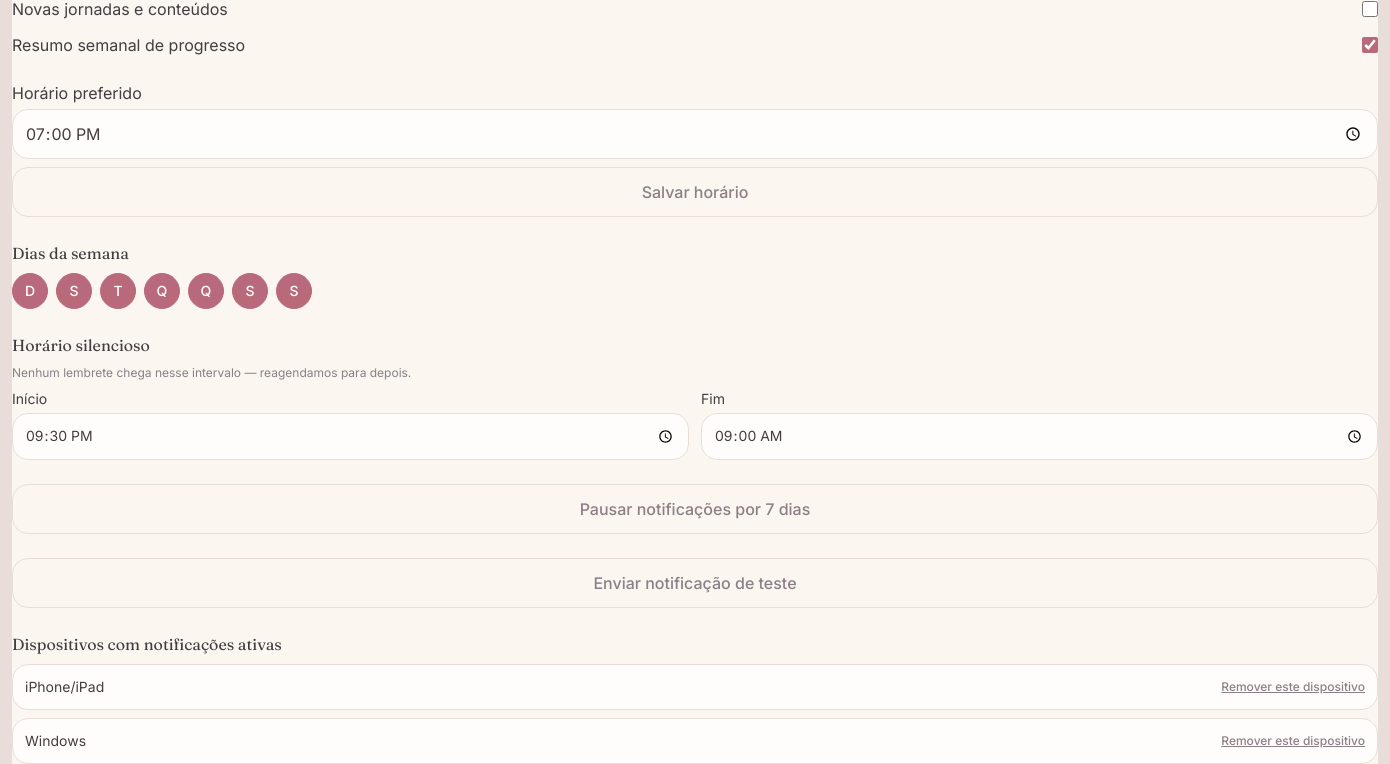
it: NotificacoesForm › lista múltiplos dispositivos e remove um deles otimisticamente
(page scrolled)
Expected: the list item "iPhone/iPad" is shown, [25,678,104,695]
Expected: the list item "Windows" is shown, [25,732,86,749]
Click the button "Remover este dispositivo" in the row of "iPhone/iPad" at [1293, 687], box [1221,679,1365,695]
(page scrolled)
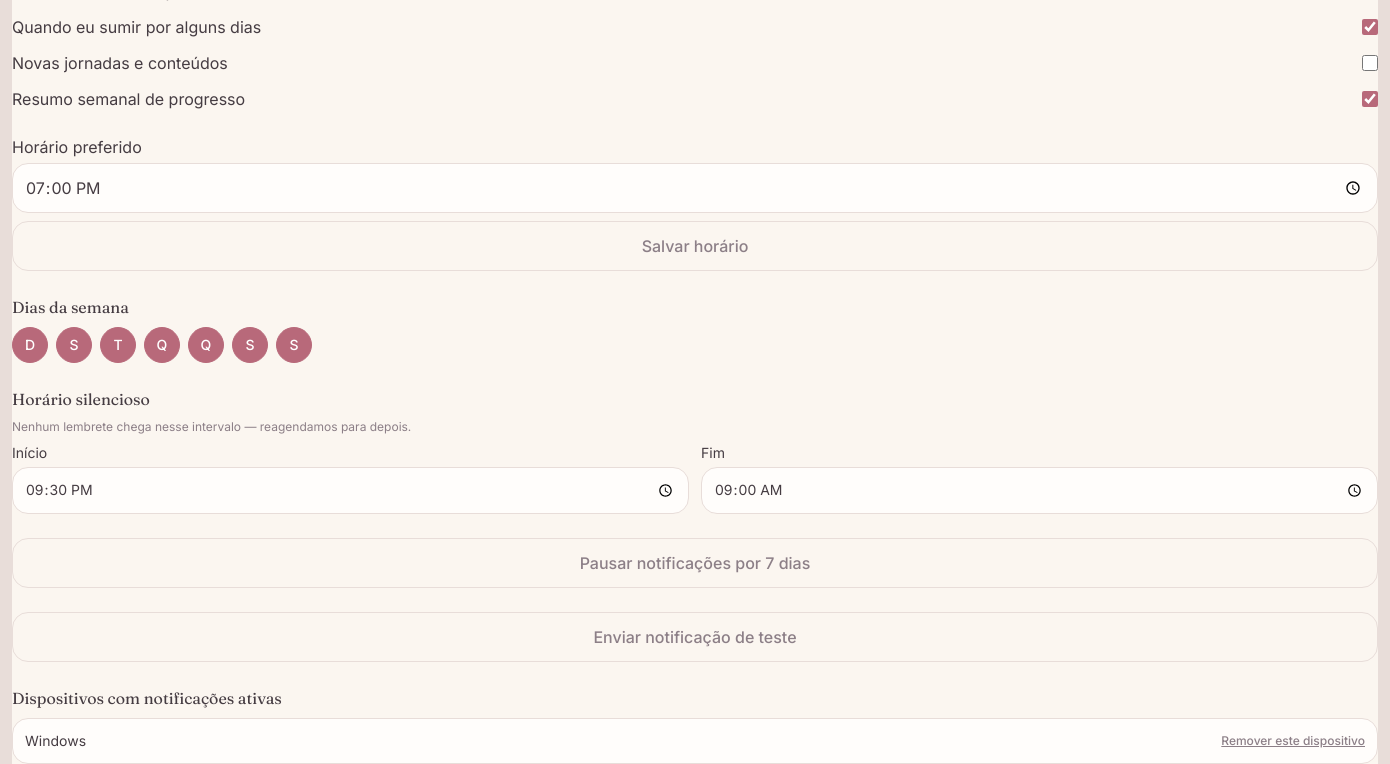
Expected: the list item "Windows" is shown, [25,732,86,749]
Result: the list item "iPhone/iPad" is gone
